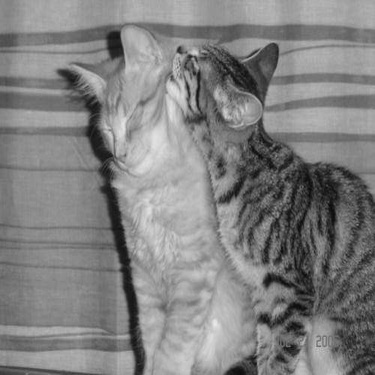cat: (68, 22, 256, 371), (173, 40, 370, 372)
